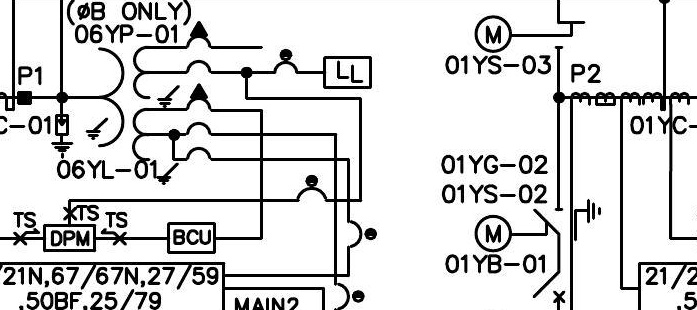115_1way_ds_w_motor: (473, 14, 586, 54)
115_3ways_ds_w_motor: (474, 198, 602, 253)
115_breaker: (532, 271, 566, 303)
115_la: (50, 114, 74, 160)
115_vt_1p: (84, 20, 213, 186)
BCU: (166, 221, 217, 255)
DPM: (42, 223, 96, 253)
LL: (323, 56, 372, 89)
